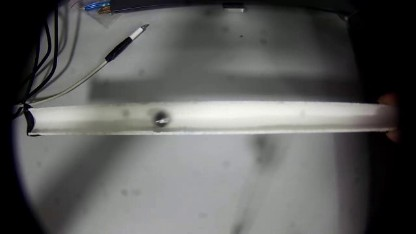gangzhu: (151, 109, 168, 127)
